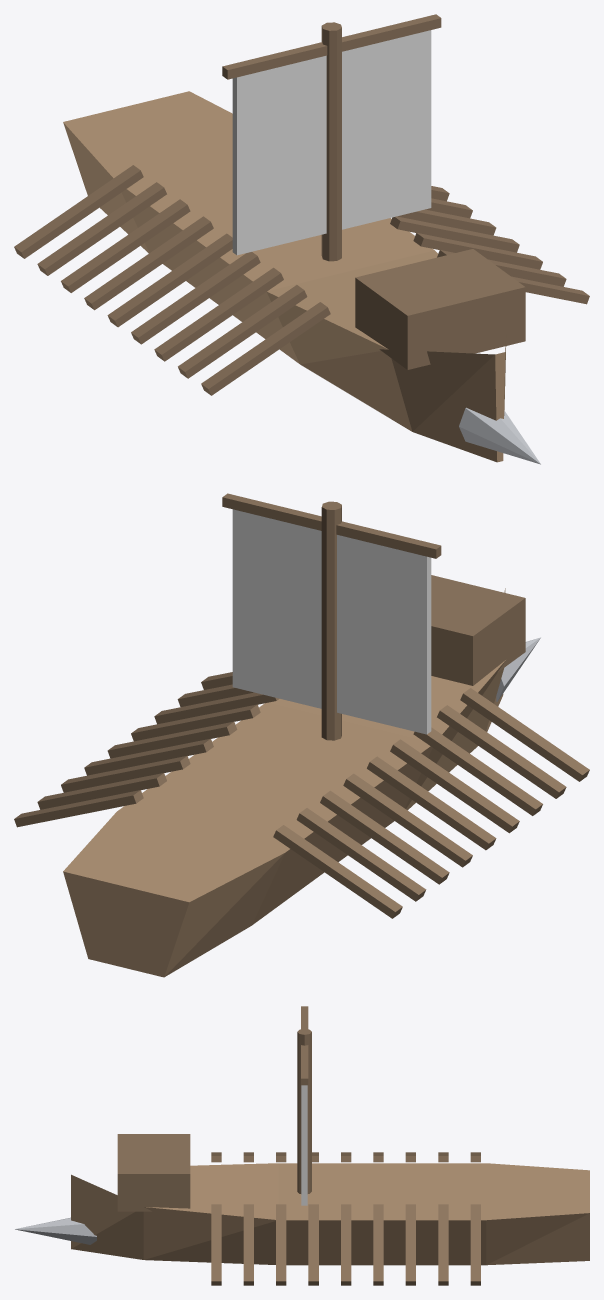
File: Quinquereme.glb
3 views of the same model, one above another, from view 1: azimuth 30°, elevation 25°; view 2: azimuth 150°, elevation 25°; view 3: azimuth 270°, elevation 25° (orthographic). The views are drawn at different scales.
Parts seen in each view (by area): view 1: Body; view 2: Body; view 3: Body.
Boxes of the visible parts, left/top/right/bottom form: Body: left=14, top=14, right=589, bottom=464; Body: left=14, top=493, right=589, bottom=977; Body: left=15, top=1006, right=589, bottom=1285.
Bounding box in the file's own units: 0.5889 × 0.46 × 1.11.
